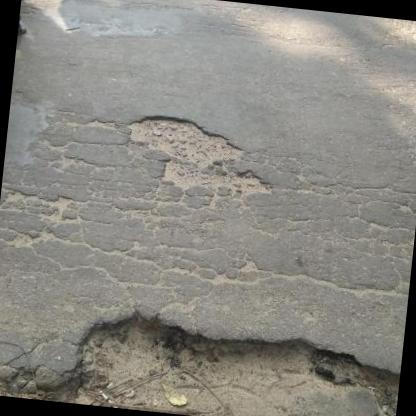pothole: (0, 290, 404, 416), (121, 109, 282, 199)
